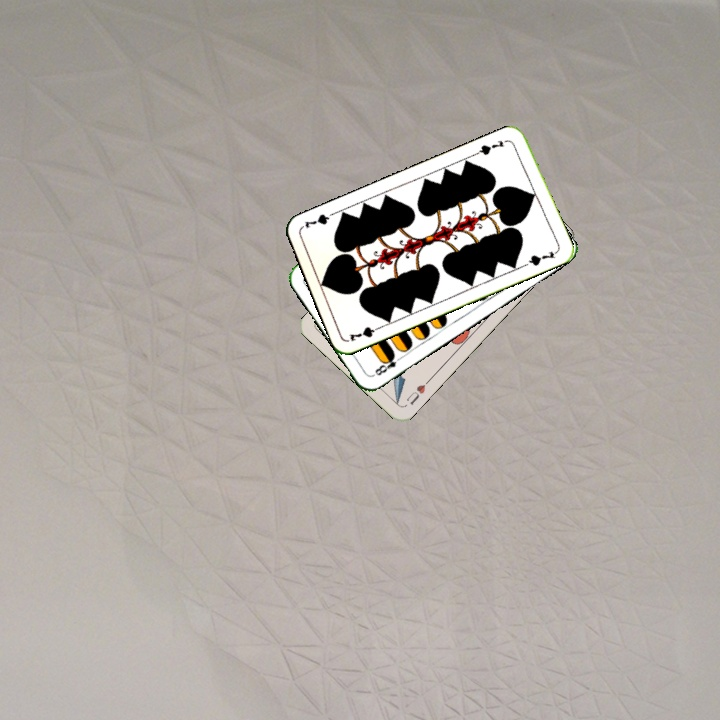E8: (369, 350, 405, 379)
G7: (345, 321, 385, 344), (472, 136, 507, 158)
HU: (402, 375, 433, 408)
